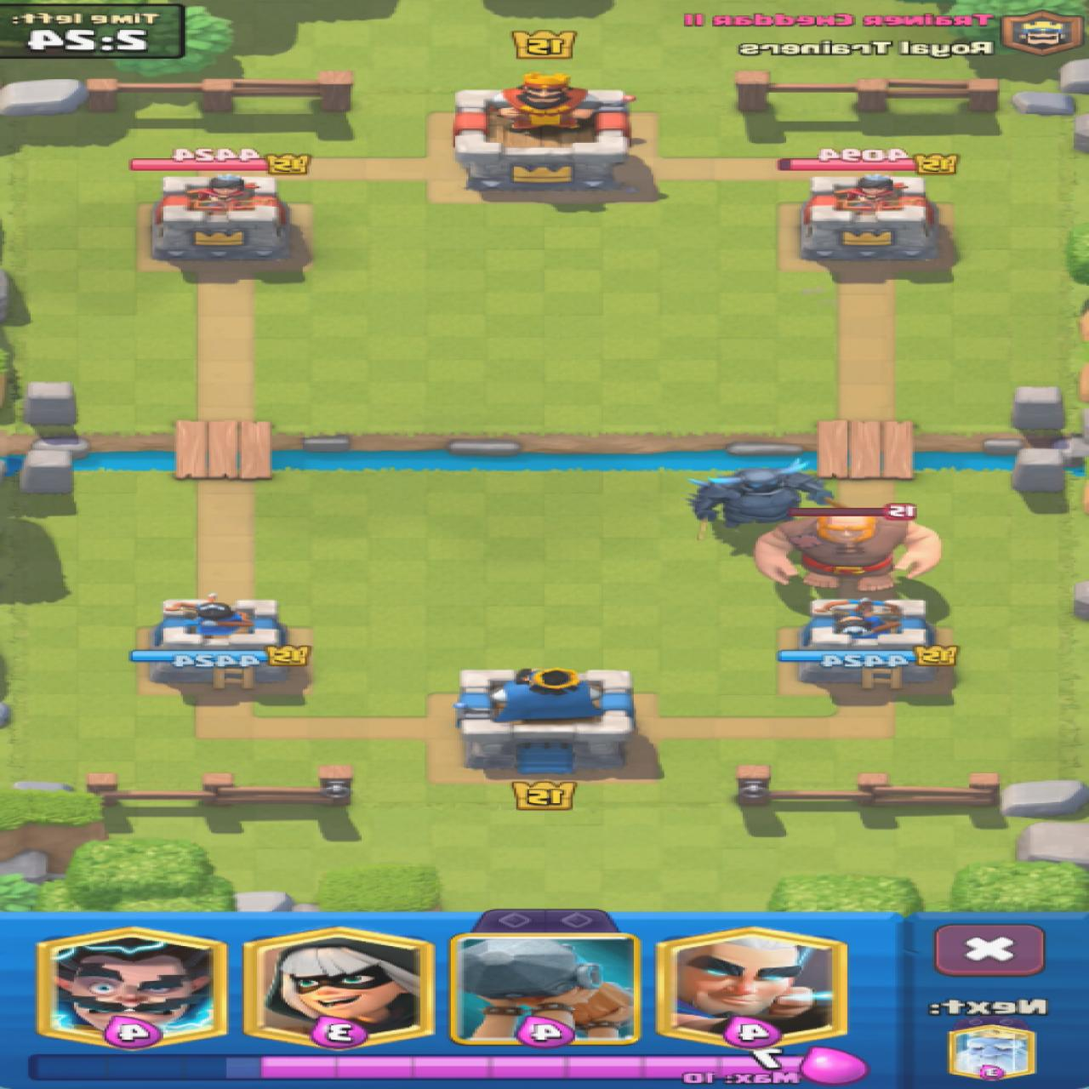Enemy-Giant: (756, 515, 939, 591)
Enemy-KingTower: (455, 73, 629, 192)
Enemy-PrincessTower: (155, 174, 290, 261), (802, 175, 939, 260)
